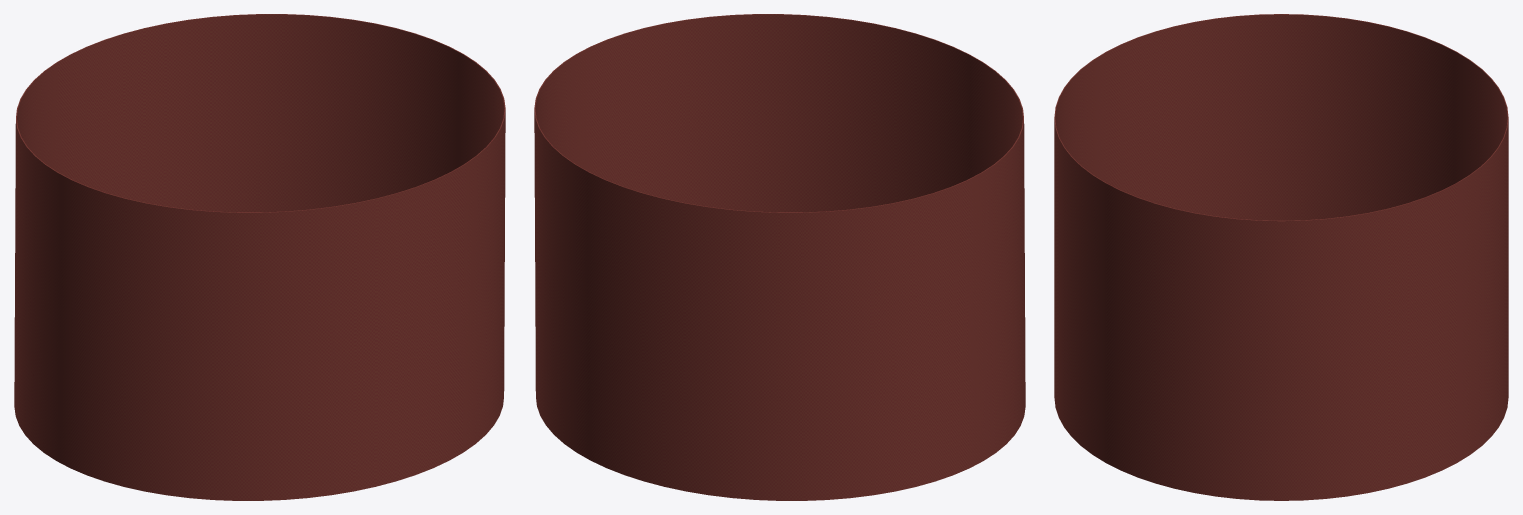
File: Walls.fbx
The picture shows the model from 3 angles, left to right: view 1: azimuth 30°, elevation 25°; view 2: azimuth 150°, elevation 25°; view 3: azimuth 270°, elevation 25°; orthographic projection. The views are drawn at different scales.
Visible parts, largest first — view 1: Walls; view 2: Walls; view 3: Walls.
Boxes of the visible parts, <box> form: Walls: <box>14,14,505,500</box>; Walls: <box>534,14,1025,500</box>; Walls: <box>1054,14,1508,500</box>.
Size of the model in its own units: 8715 by 5591 by 8137.
